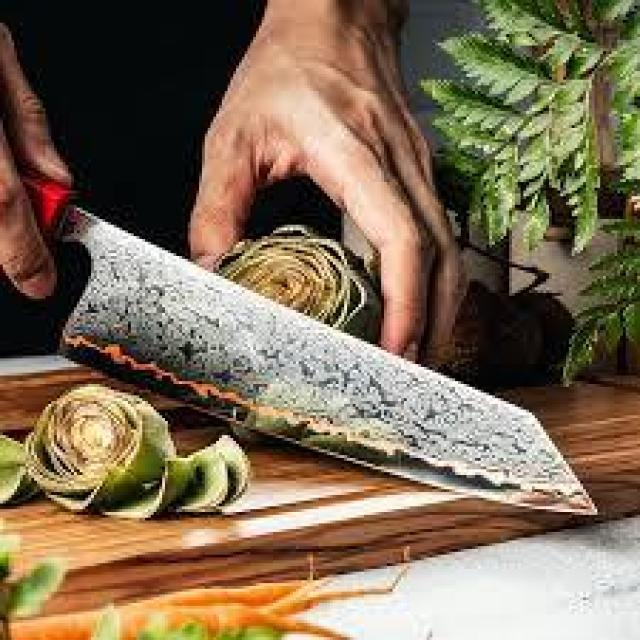Knife: (24, 200, 596, 544)
